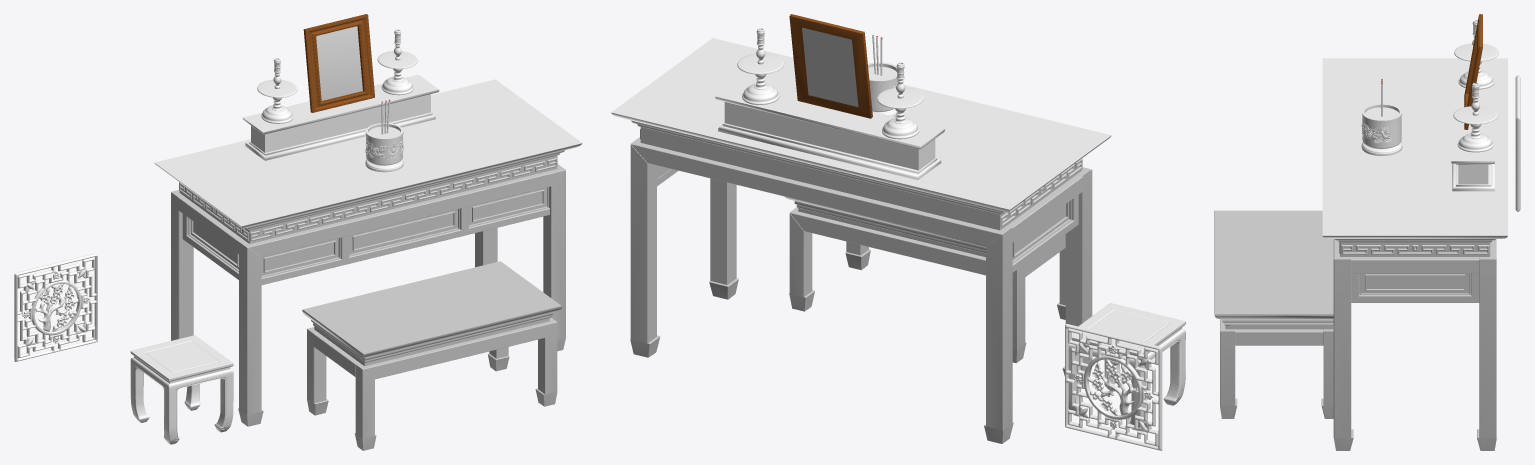
The model's file is ban tho chinh.fbx.
3 renders of one model, left to right at view 1: azimuth 30°, elevation 25°; view 2: azimuth 150°, elevation 25°; view 3: azimuth 270°, elevation 25°, orthographic. The views are drawn at different scales.
Visible parts, largest first — view 1: Shape001, Box023, Box022, Box041, objBox014, Group2146523312, Picture Frame, Group2146505934, Box019, Plane003, Line003, Plane002.001 (+6 smaller); view 2: Box022, Shape001, Box023, Box041, Group2146523312, Group2146505934, Picture Frame, objBox014, Line2062815097, Line29, Line2062832779, Box020 (+1 smaller); view 3: Shape001, Box023, Box022, Group2146505934, Box041, Line2062815097, Line2062832779, Box021, Line005, Line29, Picture Frame, Group2146523312 (+2 smaller).
Part boxes in pixels (<box>): Shape001: <box>154,79,582,230</box>; Box023: <box>302,261,561,450</box>; Box022: <box>171,164,565,426</box>; Box041: <box>242,74,439,160</box>; objBox014: <box>130,335,233,444</box>; Group2146523312: <box>14,253,97,361</box>; Picture Frame: <box>303,14,374,112</box>; Group2146505934: <box>179,155,557,271</box>; Box019: <box>261,206,549,284</box>; Plane003: <box>349,209,459,256</box>; Line003: <box>250,158,557,241</box>; Plane002.001: <box>468,187,548,226</box>; Box022: <box>630,137,1092,443</box>; Shape001: <box>611,38,1111,214</box>; Box023: <box>785,196,1065,363</box>; Box041: <box>715,79,944,179</box>; Group2146523312: <box>1065,323,1162,450</box>; Group2146505934: <box>640,127,1082,262</box>; Picture Frame: <box>789,14,872,118</box>; objBox014: <box>1068,303,1185,430</box>; Line2062815097: <box>737,28,784,104</box>; Line29: <box>877,62,923,139</box>; Line2062832779: <box>868,62,898,111</box>; Box020: <box>1012,195,1078,272</box>; Shape001: <box>1322,58,1507,242</box>; Box023: <box>1214,210,1333,418</box>; Box022: <box>1333,239,1496,450</box>; Group2146505934: <box>1340,242,1490,294</box>; Box041: <box>1451,69,1494,191</box>; Line2062815097: <box>1453,83,1497,152</box>; Line2062832779: <box>1362,103,1402,148</box>; Box021: <box>1351,273,1479,302</box>; Line005: <box>1341,245,1489,254</box>; Line29: <box>1454,20,1498,89</box>; Picture Frame: <box>1464,14,1482,129</box>; Group2146523312: <box>1515,75,1520,211</box>.
Bounding box in the file's own units: 304 × 194 × 159.
